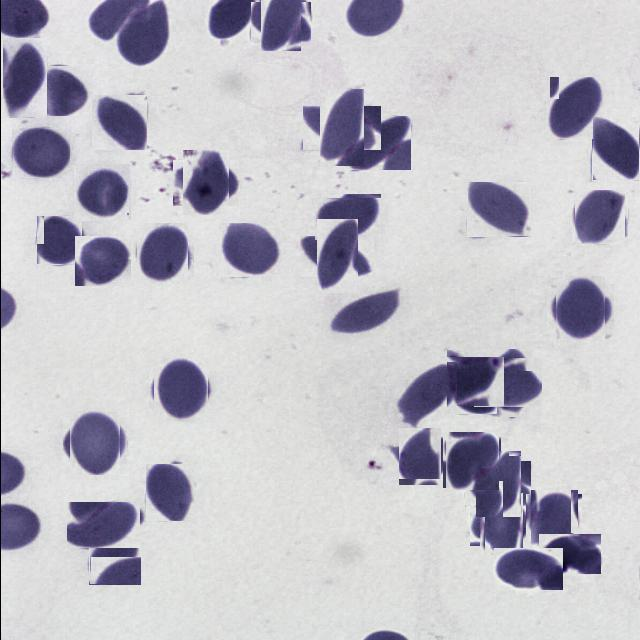red blood cell: (310, 98, 372, 158), (150, 360, 210, 420), (398, 362, 456, 424), (466, 182, 530, 237), (2, 38, 46, 118), (346, 116, 410, 170), (550, 280, 609, 338), (478, 353, 536, 412), (117, 0, 168, 67), (218, 223, 281, 277), (308, 228, 366, 286), (66, 502, 139, 548), (88, 521, 140, 585), (442, 354, 500, 411), (548, 77, 600, 140), (133, 225, 190, 282), (66, 414, 122, 472), (331, 290, 398, 338), (313, 194, 380, 241), (469, 456, 525, 512), (177, 155, 233, 211), (74, 164, 129, 220), (444, 433, 499, 489), (91, 95, 146, 150), (591, 117, 638, 181), (11, 128, 69, 178), (493, 548, 562, 590), (74, 236, 130, 286), (145, 462, 193, 520), (573, 192, 626, 244), (474, 498, 526, 550), (527, 492, 579, 544), (38, 66, 88, 116), (394, 432, 444, 482), (538, 534, 600, 574), (254, 0, 305, 48), (35, 216, 81, 265)
